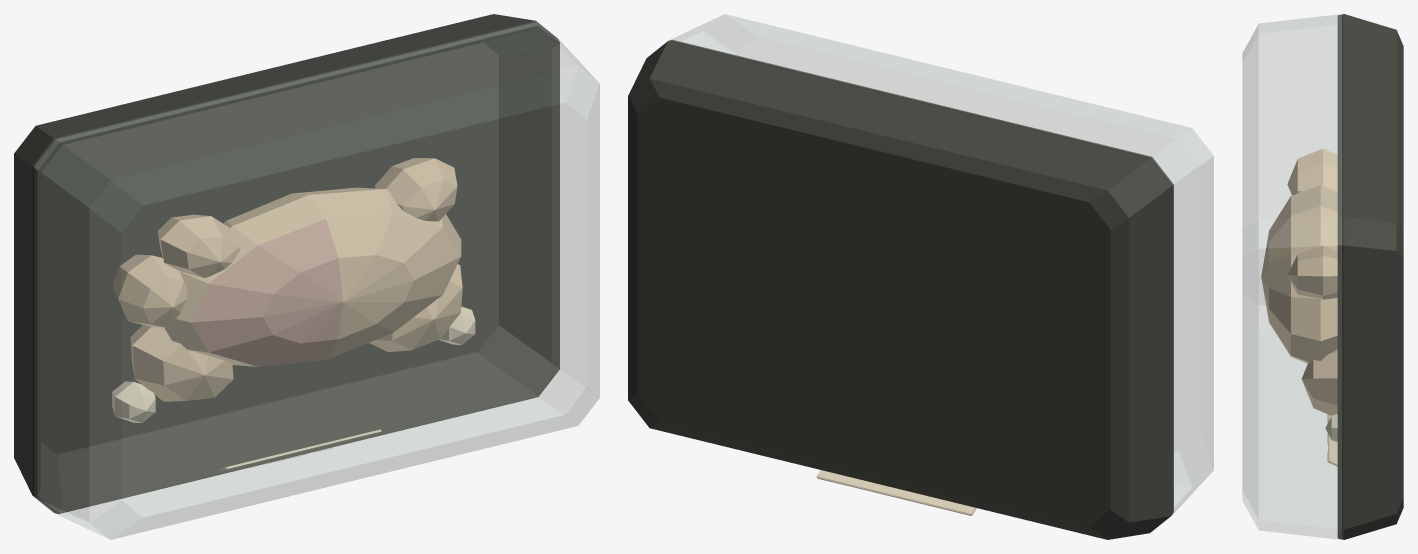
File: duck.glb
3 renders of one model, left to right at view 1: azimuth 30°, elevation 25°; view 2: azimuth 150°, elevation 25°; view 3: azimuth 270°, elevation 25°, orthographic. The views are drawn at different scales.
Visible parts, largest first — view 1: duck; view 2: duck; view 3: duck.
Part boxes in pixels (bbox=[...]): duck: bbox=[14, 14, 599, 539]; duck: bbox=[628, 14, 1213, 539]; duck: bbox=[1242, 14, 1403, 539].
Bounding box in the file's own units: 0.22 × 0.1549 × 0.068.
